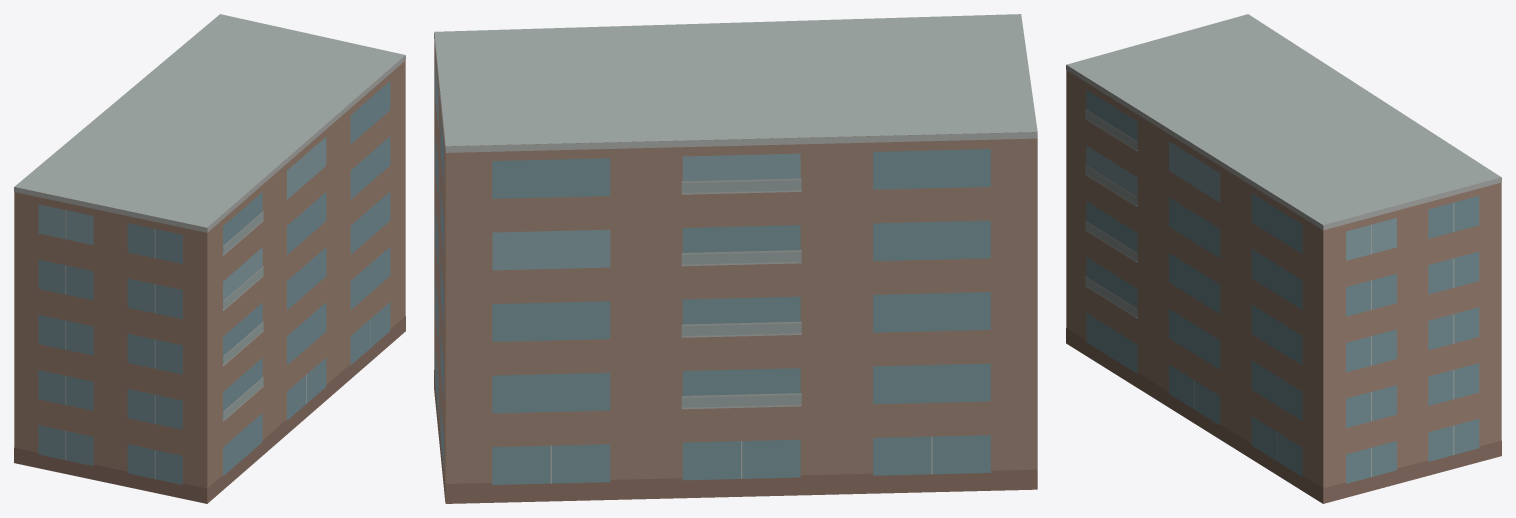
Rendered from survey-upis-32822807.glb.
3 views of the same model, side by side, from view 1: azimuth 30°, elevation 25°; view 2: azimuth 150°, elevation 25°; view 3: azimuth 270°, elevation 25° (orthographic). The views are drawn at different scales.
Visible parts, largest first — view 1: survey-upis-32822807.tmp; view 2: survey-upis-32822807.tmp; view 3: survey-upis-32822807.tmp.
Boxes of the visible parts, x1=… form: survey-upis-32822807.tmp: x1=14, y1=14, x2=405, y2=503; survey-upis-32822807.tmp: x1=434, y1=14, x2=1037, y2=503; survey-upis-32822807.tmp: x1=1066, y1=14, x2=1501, y2=503.
Bounding box in the file's own units: 21.38 × 13.15 × 18.63.
